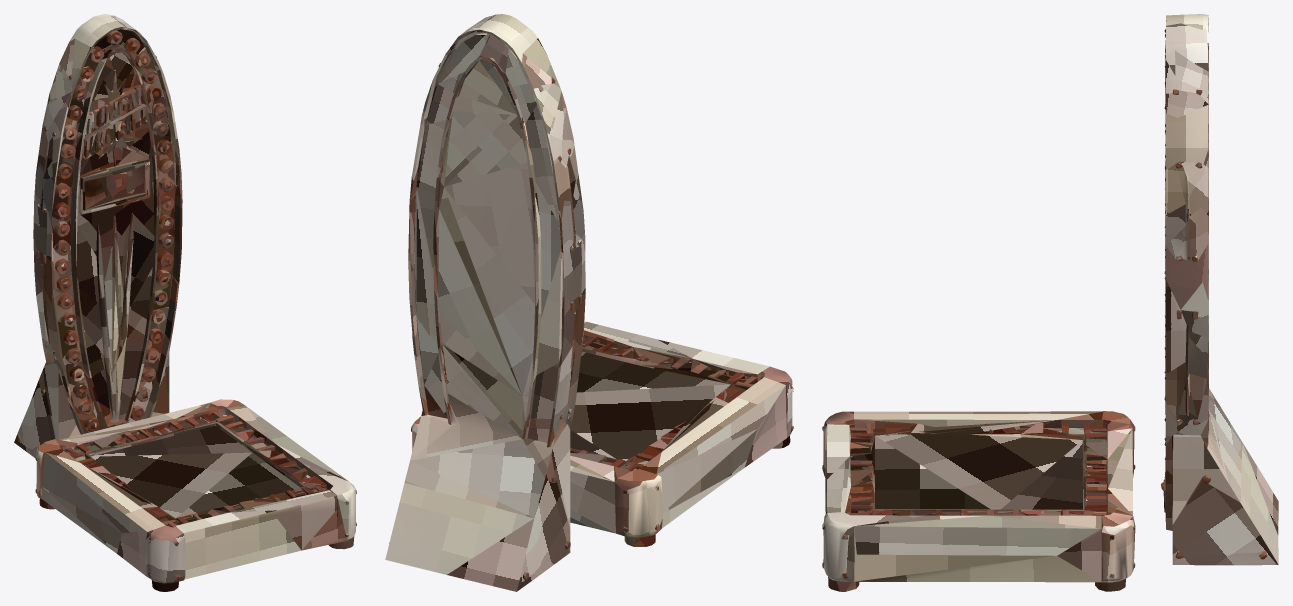
The model's file is jackpot.glb.
The picture shows the model from 3 angles, left to right: view 1: azimuth 30°, elevation 25°; view 2: azimuth 150°, elevation 25°; view 3: azimuth 270°, elevation 25°; orthographic projection. The views are drawn at different scales.
Visible parts, largest first — view 1: Mesh_0; view 2: Mesh_0; view 3: Mesh_0.
Part boxes in pixels (x1,y1,x2,y2): Mesh_0: [14, 14, 356, 591]; Mesh_0: [385, 14, 793, 591]; Mesh_0: [822, 14, 1278, 591].
Size of the model in its own units: 0.9417 by 1.9 by 1.52.
1 material, 1 textured.
